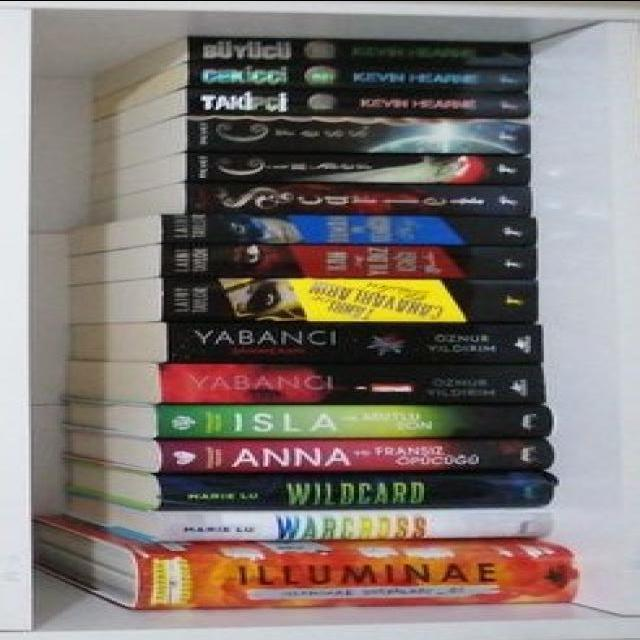book: (136, 555, 575, 608), (163, 281, 539, 322), (159, 364, 544, 401), (168, 326, 542, 362), (160, 474, 555, 508), (186, 117, 530, 154), (162, 246, 537, 278), (160, 215, 536, 246), (159, 441, 554, 470), (157, 407, 551, 436), (185, 184, 530, 215), (185, 154, 530, 184), (158, 512, 554, 538), (188, 36, 530, 63), (188, 62, 528, 89), (186, 90, 530, 116)
